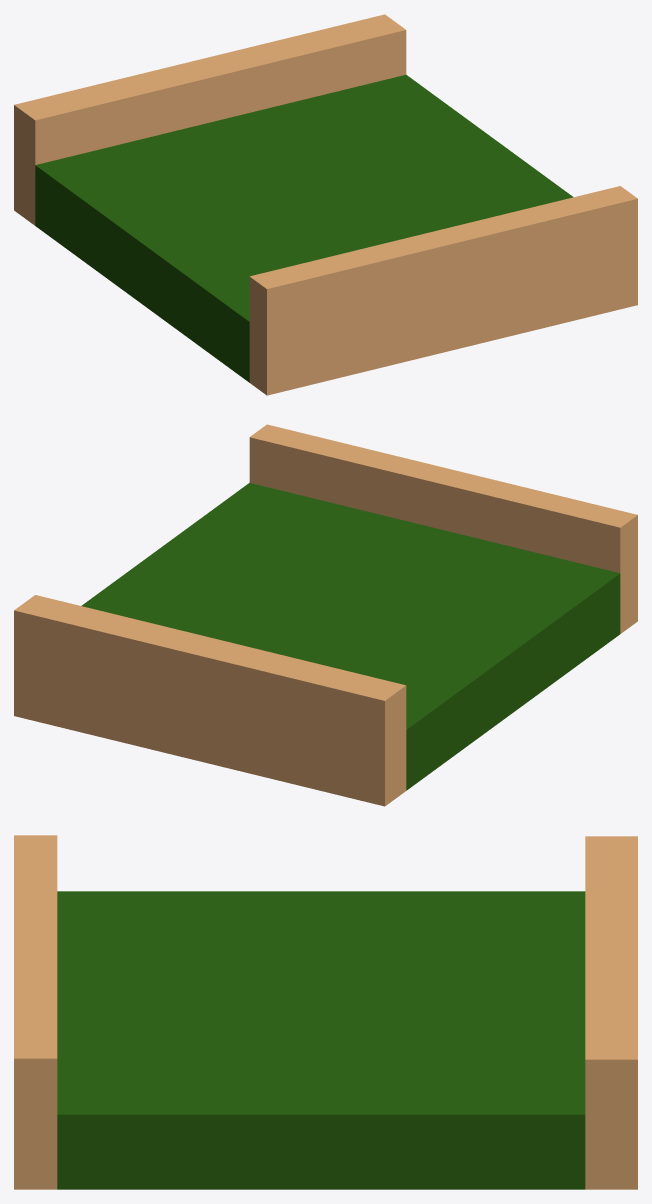
The model's file is Lego2.fbx.
3 views of the same model, one above another, from view 1: azimuth 30°, elevation 25°; view 2: azimuth 150°, elevation 25°; view 3: azimuth 270°, elevation 25° (orthographic). The views are drawn at different scales.
Parts seen in each view (by area): view 1: Cube, Cube.011, Cube.012; view 2: Cube, Cube.012, Cube.011; view 3: Cube, Cube.012, Cube.011.
Part boxes in pixels (x1,y1,x2,y2): Cube: (35, 74, 573, 382); Cube.011: (249, 186, 637, 395); Cube.012: (14, 14, 406, 225); Cube: (81, 483, 620, 790); Cube.012: (14, 595, 406, 806); Cube.011: (249, 424, 637, 633); Cube: (57, 891, 585, 1189); Cube.012: (585, 836, 637, 1189); Cube.011: (14, 835, 57, 1189).
Size of the model in its own units: 153 by 41.99 by 181.
